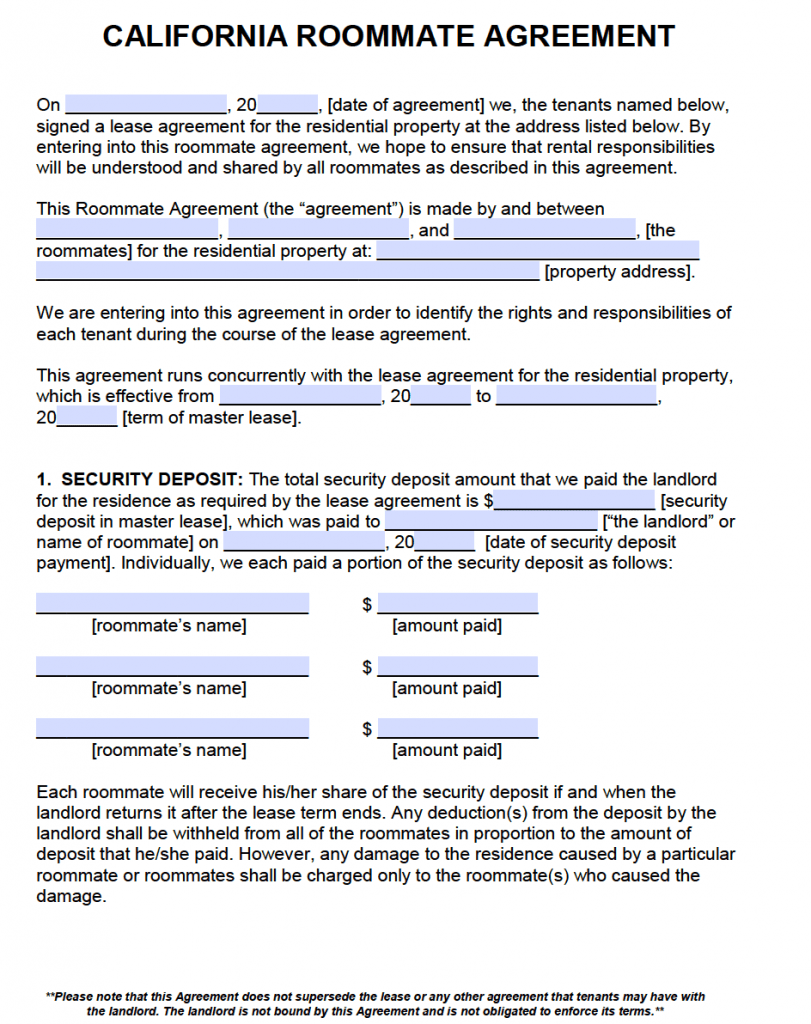textline: (32, 259, 543, 287), (28, 711, 319, 745), (30, 593, 313, 623), (25, 655, 318, 683), (371, 242, 703, 265), (378, 512, 603, 538), (31, 216, 220, 246), (217, 217, 411, 245), (489, 383, 661, 414), (218, 381, 389, 412), (370, 656, 551, 684), (62, 93, 228, 123), (489, 487, 655, 517), (448, 220, 637, 246), (371, 594, 540, 623), (370, 718, 546, 745), (217, 534, 393, 557), (51, 405, 121, 436), (410, 528, 477, 558), (254, 91, 322, 118), (406, 386, 474, 411)
